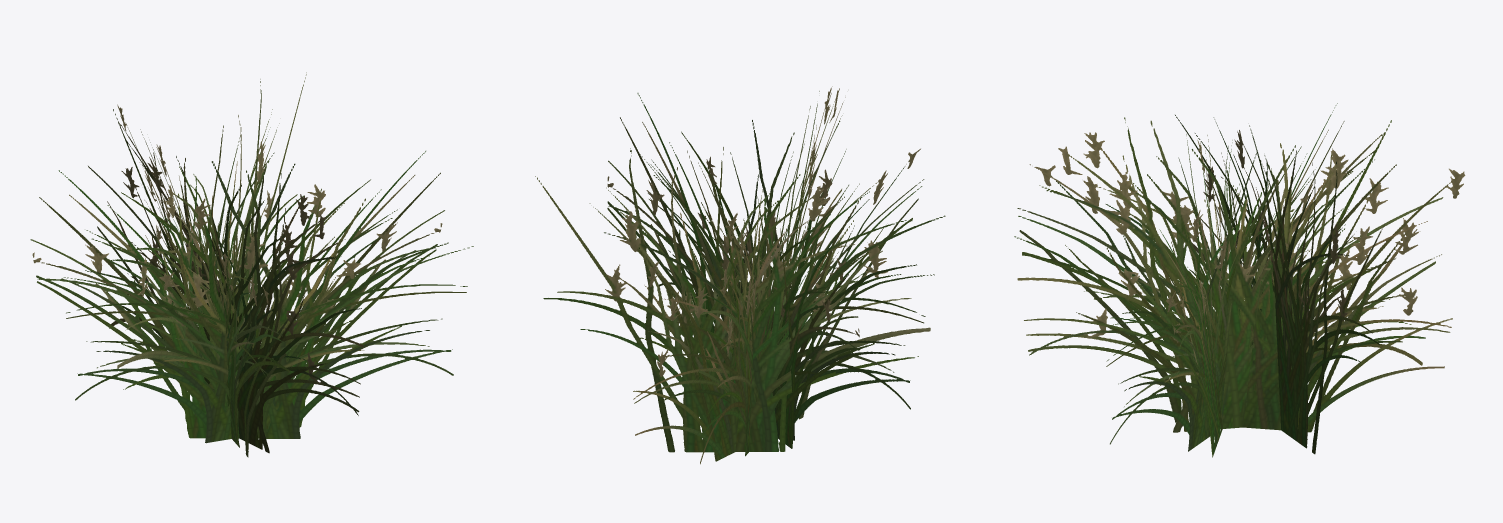
Rendered from trava_vysoka_3.glb.
The picture shows the model from 3 angles, left to right: view 1: azimuth 30°, elevation 25°; view 2: azimuth 150°, elevation 25°; view 3: azimuth 270°, elevation 25°; orthographic projection. The views are drawn at different scales.
Parts seen in each view (by area): view 1: trava_vysoka_3; view 2: trava_vysoka_3; view 3: trava_vysoka_3.
Boxes of the visible parts, <box> form: trava_vysoka_3: <box>30,72,473,457</box>; trava_vysoka_3: <box>535,86,945,464</box>; trava_vysoka_3: <box>1014,103,1465,457</box>.
Bounding box in the file's own units: 1.23 × 0.9826 × 1.33.
1 material, 1 textured.
